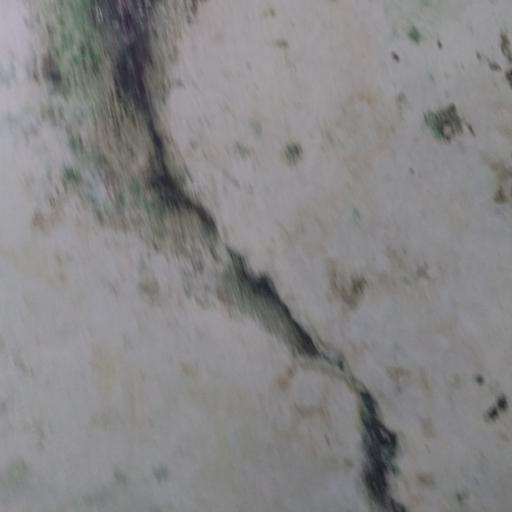algae: (22, 1, 344, 288)
